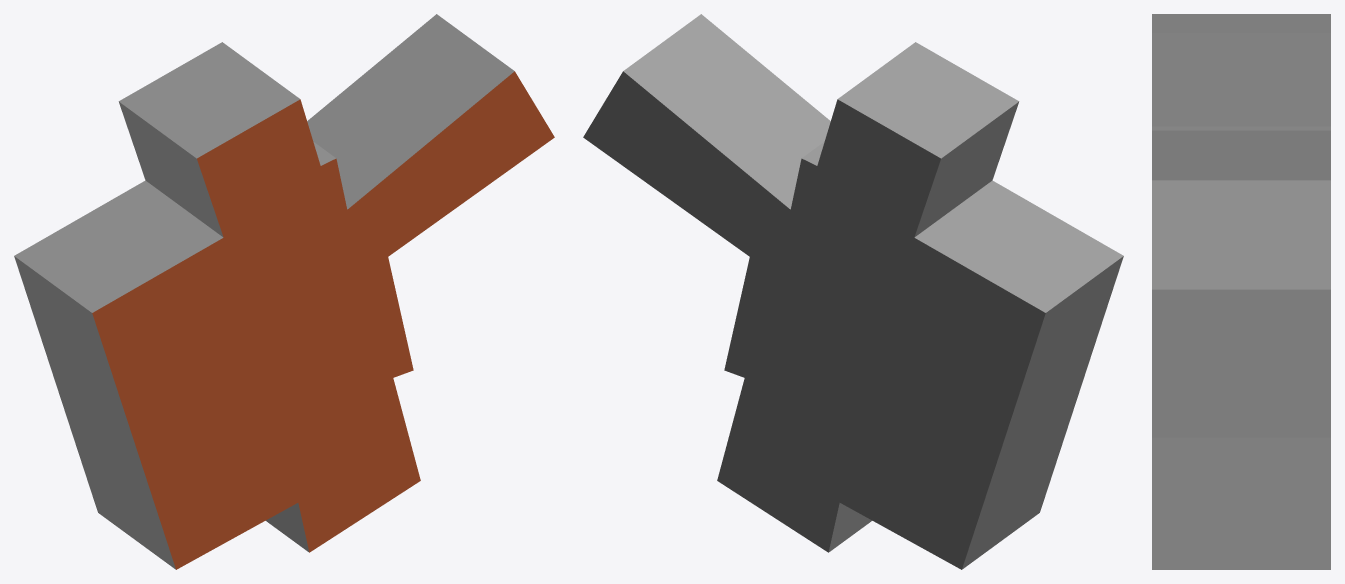
File: construction_7119_assumed_A_Casa_h6m.obj
3 renders of one model, left to right at view 1: azimuth 30°, elevation 25°; view 2: azimuth 150°, elevation 25°; view 3: azimuth 270°, elevation 25°, orthographic. The views are drawn at different scales.
Visible parts, largest first — view 1: construction_7119_assumed_A_Casa; view 2: construction_7119_assumed_A_Casa; view 3: construction_7119_assumed_A_Casa.
Boxes of the visible parts, left/top/right/bottom form: construction_7119_assumed_A_Casa: left=14, top=14, right=554, bottom=569; construction_7119_assumed_A_Casa: left=583, top=14, right=1123, bottom=569; construction_7119_assumed_A_Casa: left=1152, top=14, right=1330, bottom=569.
Size of the model in its own units: 20.51 by 19.3 by 6.
